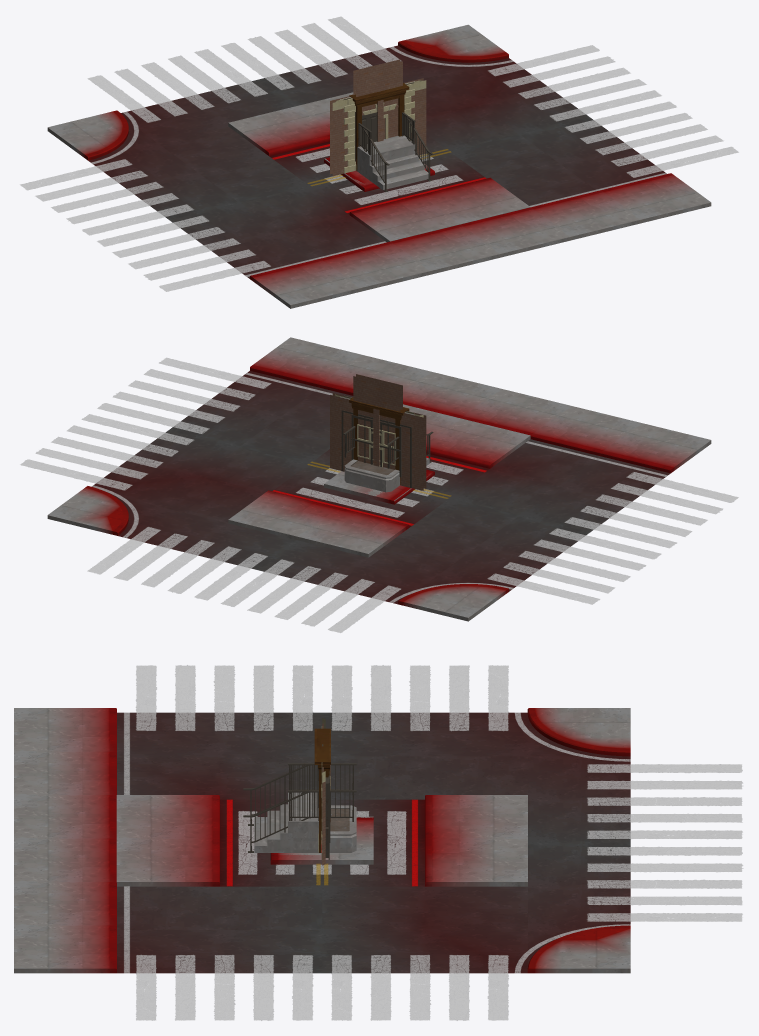
Rendered from kit.glb.
3 renders of one model, top to bottom at view 1: azimuth 30°, elevation 25°; view 2: azimuth 150°, elevation 25°; view 3: azimuth 270°, elevation 25°, orthographic. The views are drawn at different scales.
Parts seen in each view (by area): view 1: Street_TIntersection, Street_2Lane, Brick_RedWhite_DoubleWindow, Brick_Plain_4, Stairs_Entrance_Concrete, Decal_Crosswalk, DoorFrame_Wooden, Stairs_Rails_Metal, Entrance_Concrete_2x1, Street_2Lane_noSidewalk; view 2: Street_TIntersection, Street_2Lane, Metal_Window, Brick_Plain_4, Decal_Crosswalk, Brick_Inset_Window, Prop_Planter_Single, Sidewalk_Corner_Flat_3m, DoorFrame_Wooden, Brick_RedWhite_DoubleWindow, Street_2Lane_noSidewalk; view 3: Street_TIntersection, Street_2Lane, Decal_Crosswalk, Stairs_Entrance_Concrete, Stairs_Rails_Metal, Prop_Planter_Single, Stairs_Rails_Metal_Straight_2, Street_2Lane_noSidewalk, Sidewalk_Straight_3m, DoorFrame_Wooden, Sidewalk_Corner_Flat_3m, Entrance_Concrete_2x1 (+1 smaller).
Part boxes in pixels (x1,y1,x2,y2): Street_TIntersection: (20,16,738,308); Street_2Lane: (228,92,530,242); Brick_RedWhite_DoubleWindow: (330,78,426,175); Brick_Plain_4: (353,59,402,138); Stairs_Entrance_Concrete: (357,135,428,189); Decal_Crosswalk: (296,148,463,204); DoorFrame_Wooden: (349,82,409,170); Stairs_Rails_Metal: (358,114,433,191); Entrance_Concrete_2x1: (361,138,415,164); Street_2Lane_noSidewalk: (272,144,486,212); Street_TIntersection: (20,337,738,632); Street_2Lane: (228,404,530,557); Metal_Window: (330,393,426,490); Brick_Plain_4: (353,374,402,469); Decal_Crosswalk: (296,462,463,517); Brick_Inset_Window: (335,394,423,486); Prop_Planter_Single: (344,459,399,492); Sidewalk_Corner_Flat_3m: (324,469,432,504); DoorFrame_Wooden: (349,397,409,484); Brick_RedWhite_DoubleWindow: (344,395,413,477); Street_2Lane_noSidewalk: (272,456,486,525); Street_TIntersection: (14,665,742,1020); Street_2Lane: (116,795,527,886); Decal_Crosswalk: (238,811,406,874); Stairs_Entrance_Concrete: (254,792,318,852); Stairs_Rails_Metal: (243,765,318,852); Prop_Planter_Single: (293,805,356,852); Stairs_Rails_Metal_Straight_2: (288,763,356,821); Street_2Lane_noSidewalk: (226,799,417,886); Sidewalk_Straight_3m: (270,816,373,864); DoorFrame_Wooden: (314,728,330,852); Sidewalk_Corner_Flat_3m: (270,817,373,860); Entrance_Concrete_2x1: (288,792,318,852).
Bounding box in the file's own units: 24.67 × 4.15 × 21.33.
Materials: 10 (8 with a texture image).
